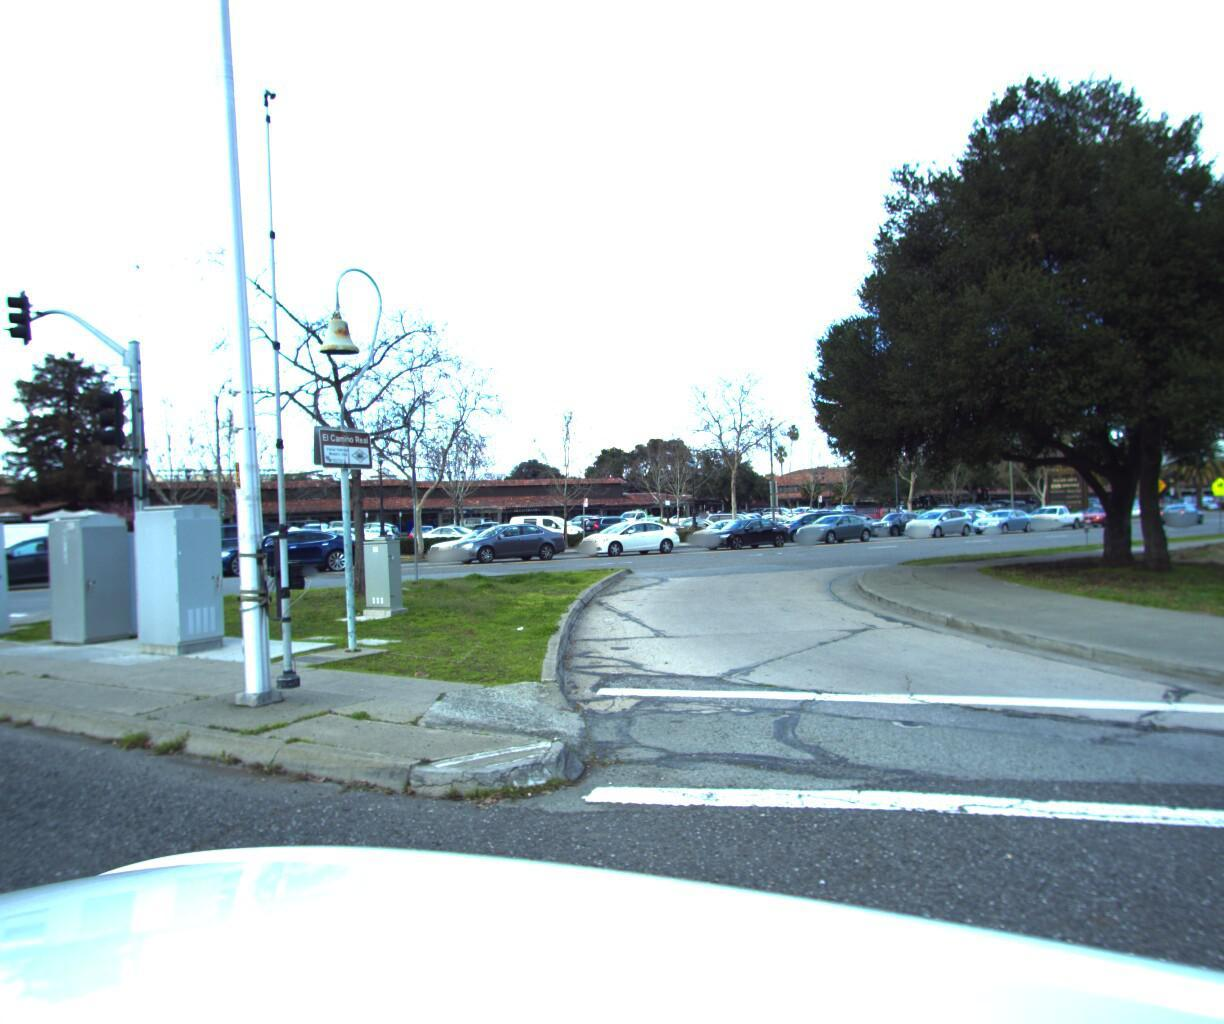car: (127, 514, 300, 578), (191, 520, 367, 575), (435, 513, 571, 561), (415, 520, 545, 560), (564, 510, 686, 553), (691, 508, 796, 545), (761, 503, 862, 537), (784, 504, 881, 539), (896, 499, 977, 533), (682, 509, 767, 541), (313, 518, 397, 548), (504, 506, 589, 536), (1016, 494, 1089, 526), (968, 499, 1042, 528), (413, 516, 491, 541), (861, 503, 932, 530), (852, 494, 927, 518), (659, 508, 732, 531), (1070, 494, 1127, 521), (791, 501, 851, 526), (1156, 492, 1206, 516), (955, 497, 1008, 517)
